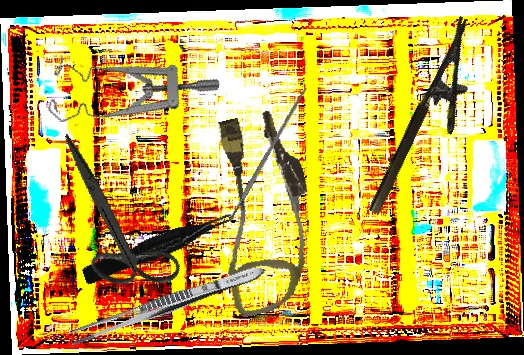Cannula: (193, 106, 333, 319)
Dressing Forceps: (65, 259, 269, 350)
Iris Scissors: (14, 133, 212, 310)
Needle Holder: (366, 16, 500, 228)
Scalpel Handle: (226, 86, 309, 222)
Speculum: (39, 25, 222, 169)
Tissue Forceps: (79, 209, 238, 286)
